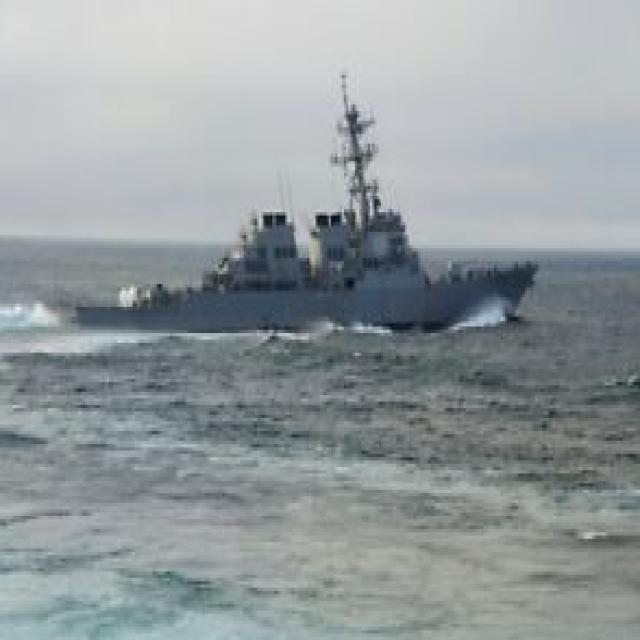navalvessels: (77, 54, 541, 339)
